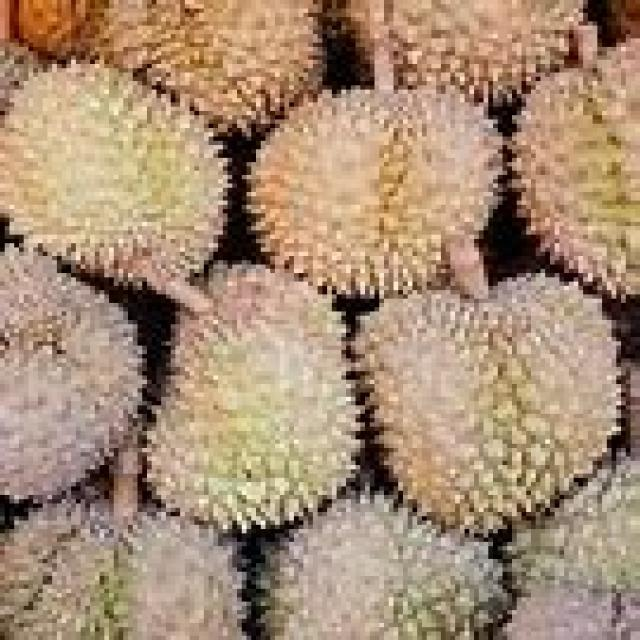mature: (357, 274, 618, 534), (147, 264, 358, 532), (251, 94, 501, 294), (3, 64, 226, 281), (0, 248, 146, 501)
